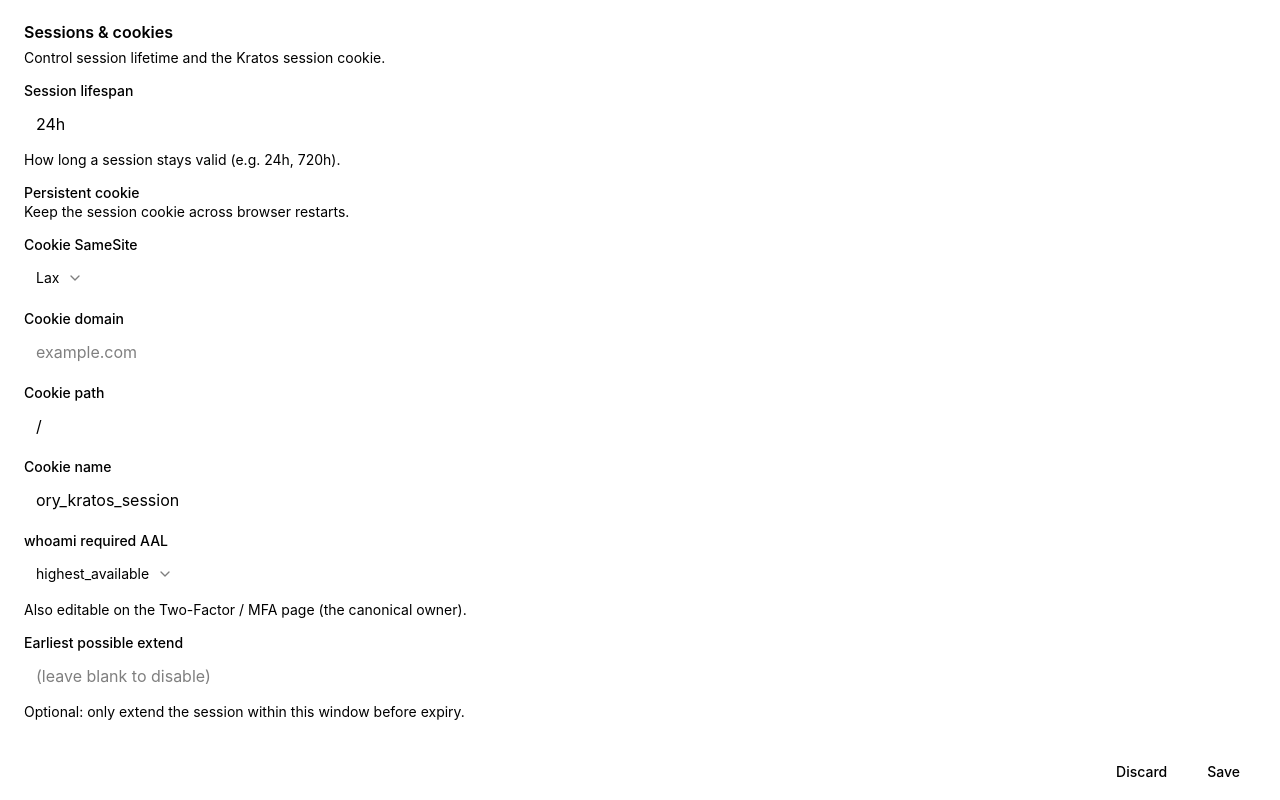
Authentication / Sessions (/authentication/sessions) › the same_site select offers exactly Strict / Lax / None
The width and height of the screenshot is (1280, 800).
Click the dropdown labelled "Lax" at (60, 278), box [24, 260, 95, 296]
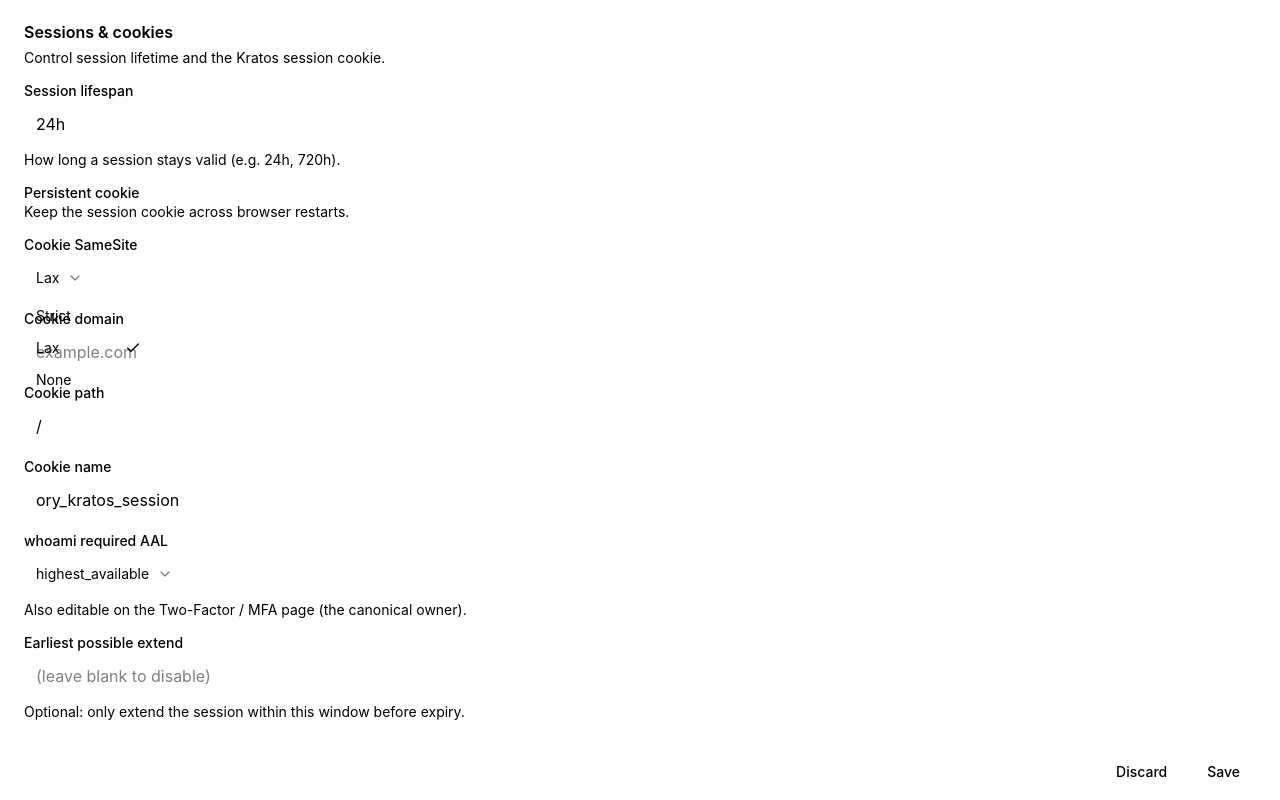
Result: the options read "Strict", "Lax", "None", in this order at [36, 307, 71, 324]; [36, 339, 141, 356]; [36, 371, 71, 388]
